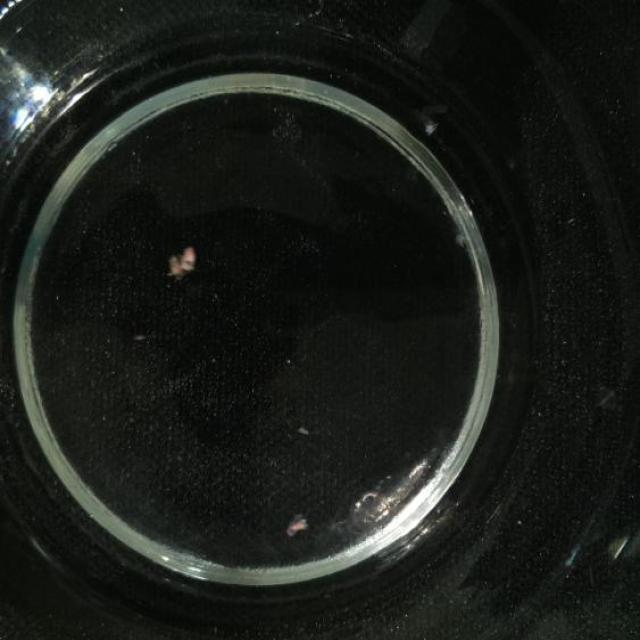fiber: (167, 244, 196, 282), (286, 508, 315, 543), (424, 113, 440, 137)
